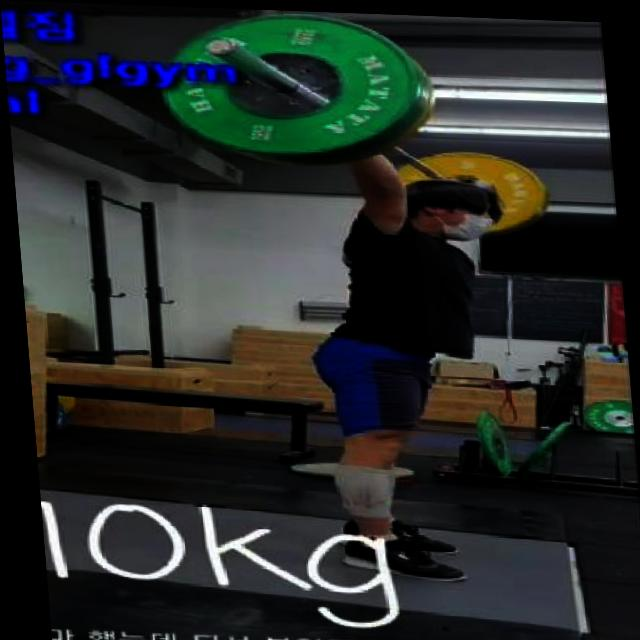barbell: (148, 5, 429, 169)
